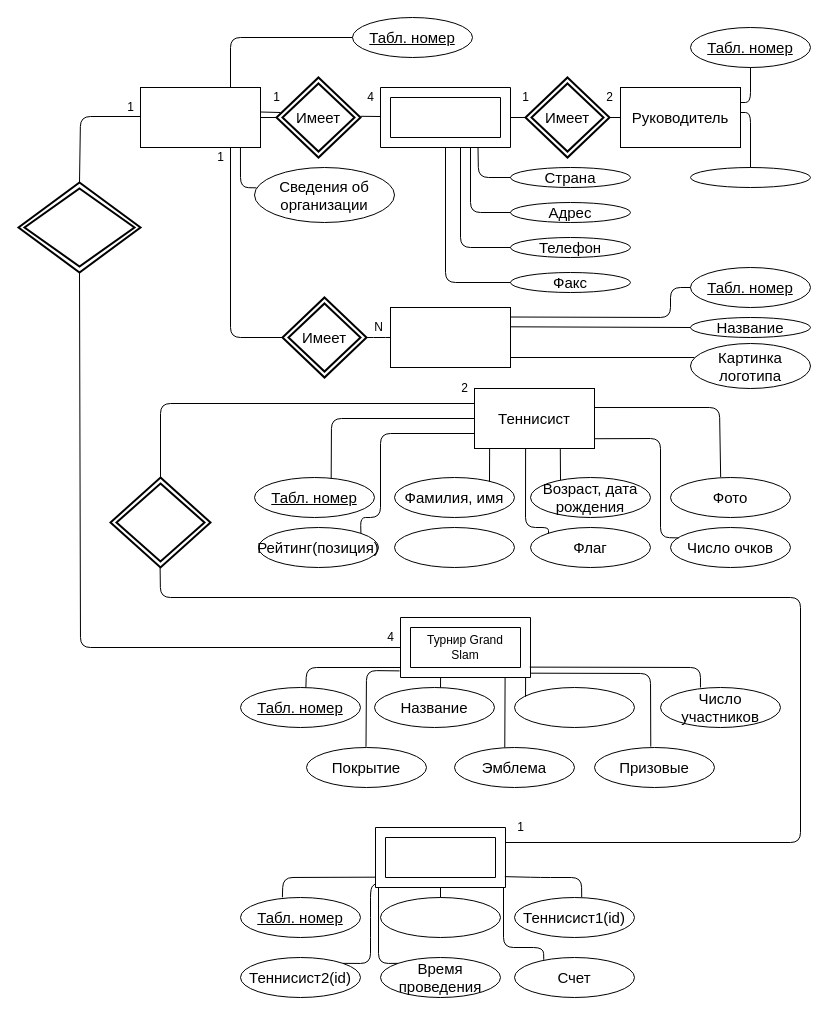
Some shapes in this 828 by 1015 pixel diagram are drawn without their labels. The box of each missing label's shape, as (x1, y1, x2, y2) in pixels:
ATP: (140, 86, 260, 148)
Даты проведения: (514, 686, 634, 728)
Матч: (374, 826, 506, 888)
Национальность: (394, 526, 514, 568)
Номер круга: (380, 896, 500, 938)
Организует: (17, 181, 141, 273)
Подразделение (континент): (380, 86, 510, 148)
Спонсор: (390, 306, 510, 368)
Участвует: (109, 476, 211, 568)
ФИО: (690, 166, 810, 188)
